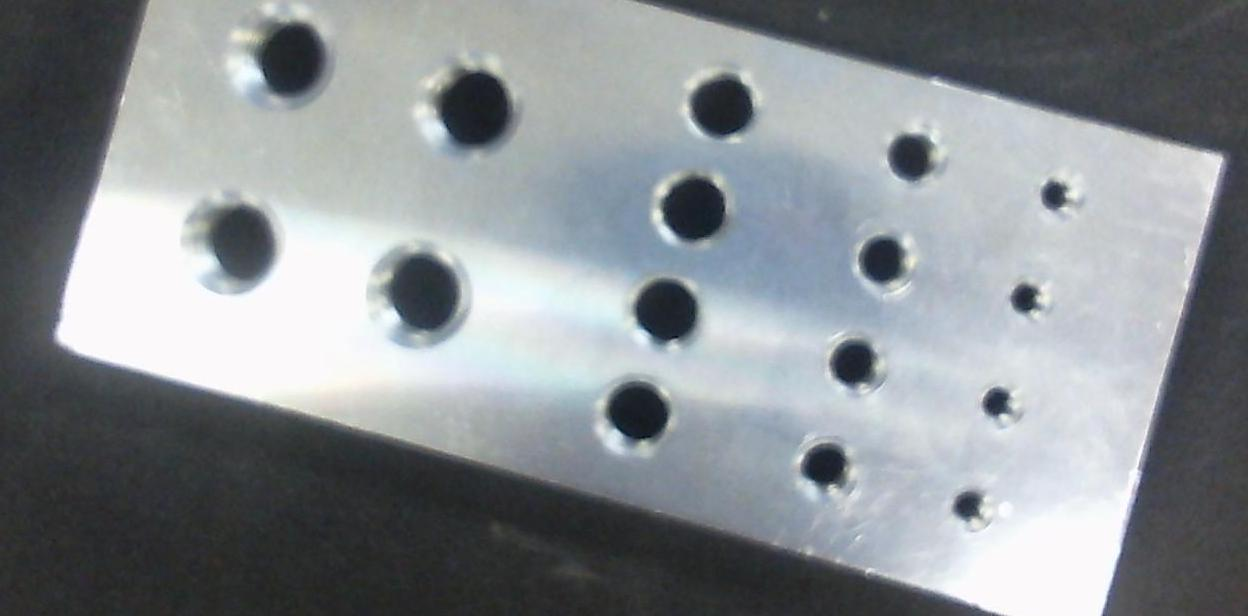hole: (346, 228, 492, 362), (211, 0, 352, 134), (169, 174, 301, 311), (410, 48, 529, 169), (585, 368, 691, 466), (648, 159, 746, 256), (675, 58, 765, 152), (625, 265, 712, 359), (783, 432, 868, 507), (844, 221, 922, 302), (880, 115, 954, 196), (820, 328, 898, 403), (1020, 166, 1083, 223), (946, 468, 992, 538), (998, 269, 1052, 325), (976, 376, 1024, 428)
